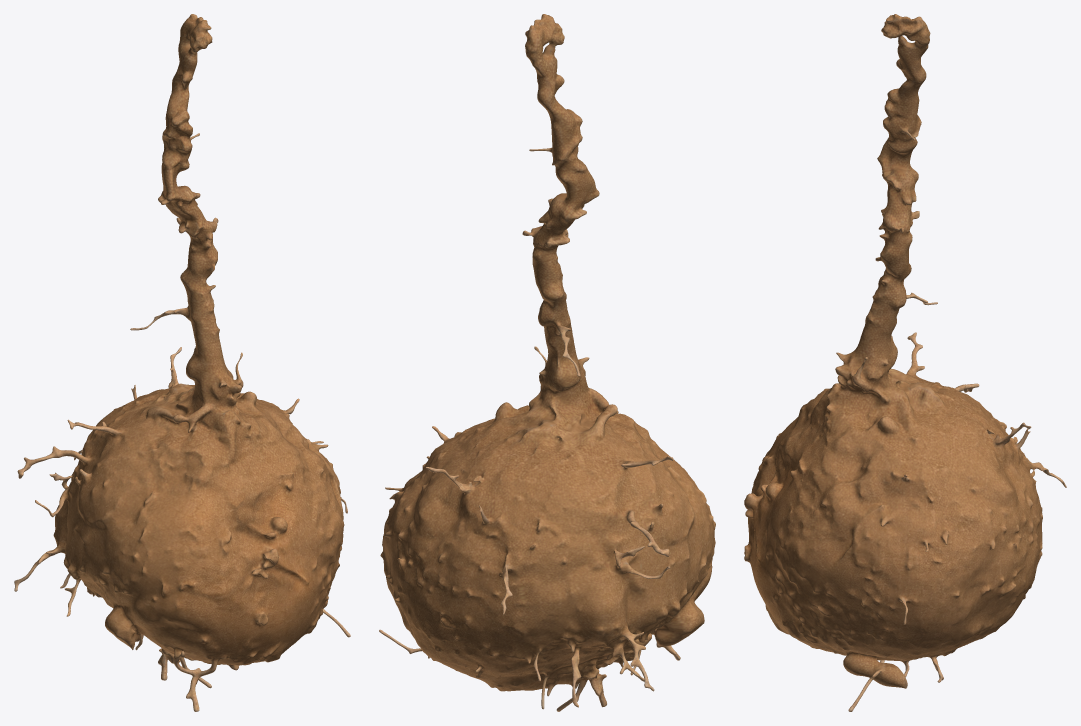
File: Meshy_AI_Earthbound_Bulb_1016073745_texture.fbx
3 views of the same model, side by side, from view 1: azimuth 30°, elevation 25°; view 2: azimuth 150°, elevation 25°; view 3: azimuth 270°, elevation 25° (orthographic). The views are drawn at different scales.
Visible parts, largest first — view 1: Mesh_0; view 2: Mesh_0; view 3: Mesh_0.
Part boxes in pixels (<box>): Mesh_0: <box>14,14,350,711</box>; Mesh_0: <box>379,14,715,711</box>; Mesh_0: <box>744,14,1066,711</box>.
Bounding box in the file's own units: 89.95 × 190 × 83.18.
Materials: 1 (1 with a texture image).
